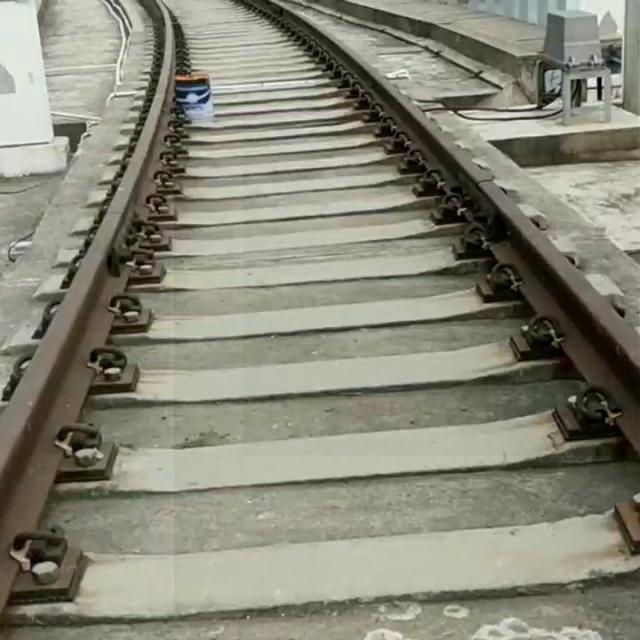rail: (244, 1, 640, 457), (1, 1, 175, 615)
